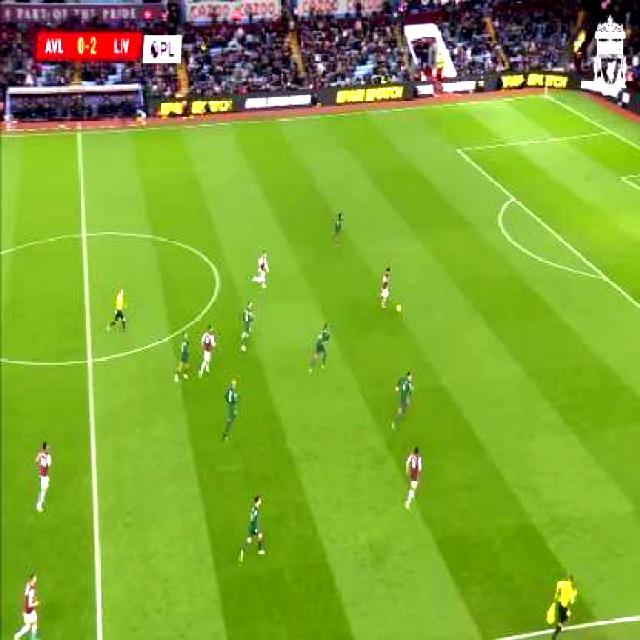bigarea_top_inner: (452, 143, 465, 157)
bigarea_top_outter: (606, 128, 614, 137)
bottom_arc_area_intersection: (597, 268, 611, 288)
corner: (540, 92, 551, 100)
halfcircle_bottom: (80, 348, 100, 374)
halfcircle_top: (77, 224, 89, 244)
midline_top_intersection: (74, 126, 86, 143)
smallarea_top_inner: (620, 172, 628, 183)
top_arc_area_intersection: (508, 192, 520, 206)
